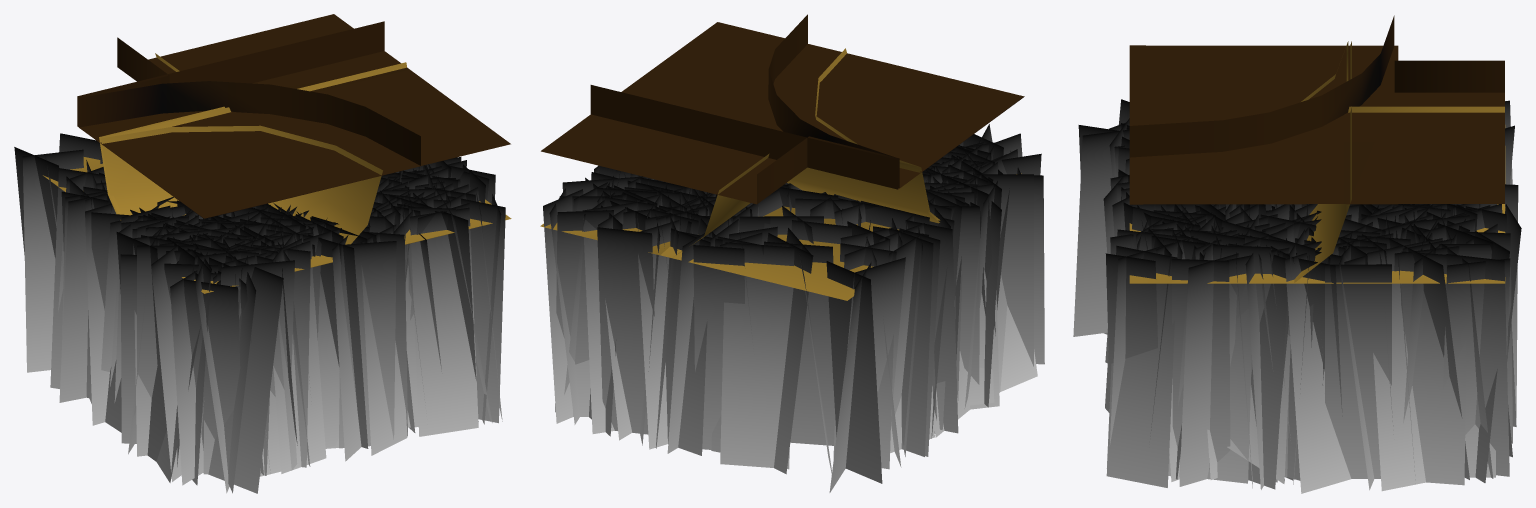
File: SField.fbx
3 views of the same model, side by side, from view 1: azimuth 30°, elevation 25°; view 2: azimuth 150°, elevation 25°; view 3: azimuth 270°, elevation 25° (orthographic). The views are drawn at different scales.
Parts seen in each view (by area): view 1: B240, B112, B16, B48; view 2: B240, B112, B48, B16; view 3: B112, B240, B16, B48.
Boxes of the visible parts, x1,y1,x2,y2 form: B240: (14,133,511,493); B112: (79,14,510,485); B16: (79,81,420,493); B48: (77,21,508,447); B240: (540,142,1041,492); B112: (541,22,1033,453); B48: (590,85,1021,299); B16: (768,14,1044,429); B112: (1121,41,1521,493); B240: (1103,99,1516,489); B16: (1073,15,1394,363); B48: (1106,41,1398,483).
Bounding box in the file's own units: 1.15 × 0.9272 × 1.19.
